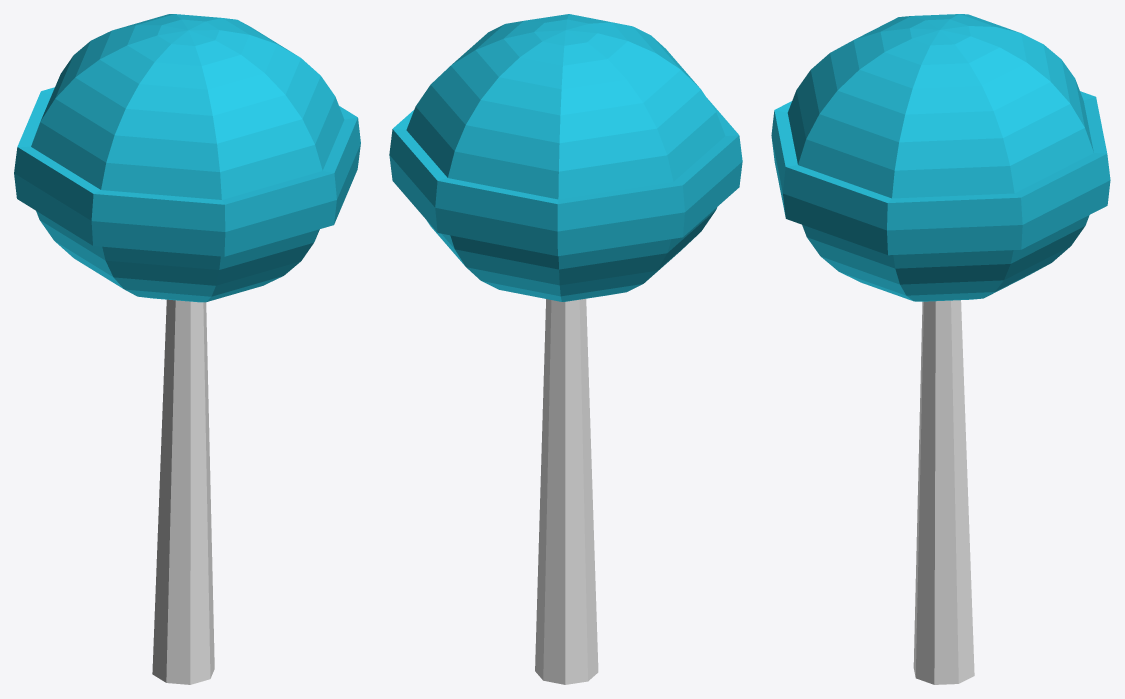
File: Ingredient3.fbx
3 views of the same model, side by side, from view 1: azimuth 30°, elevation 25°; view 2: azimuth 150°, elevation 25°; view 3: azimuth 270°, elevation 25° (orthographic).
Visible parts, largest first — view 1: Chups; view 2: Chups; view 3: Chups.
Part boxes in pixels (x1,y1,x2,y2): Chups: (14, 14, 360, 684); Chups: (389, 14, 742, 684); Chups: (771, 14, 1110, 684).
Bounding box in the file's own units: 53.32 × 112 × 53.32.
